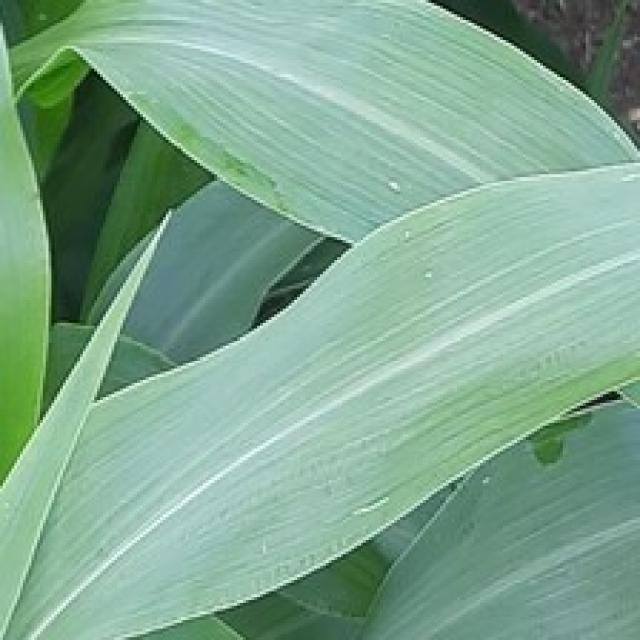Corn: (0, 0, 637, 637), (0, 0, 637, 249), (0, 0, 51, 637)
